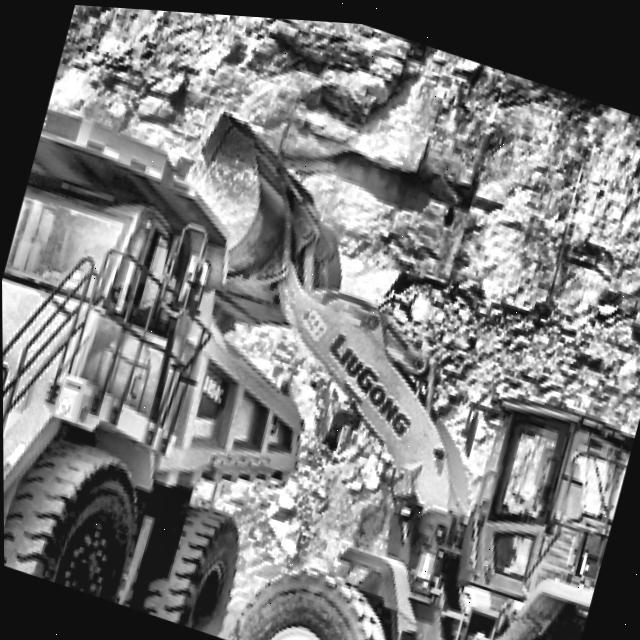buldozerpayloadergrader: (53, 55, 640, 640)
dump_truck: (1, 91, 356, 640)
